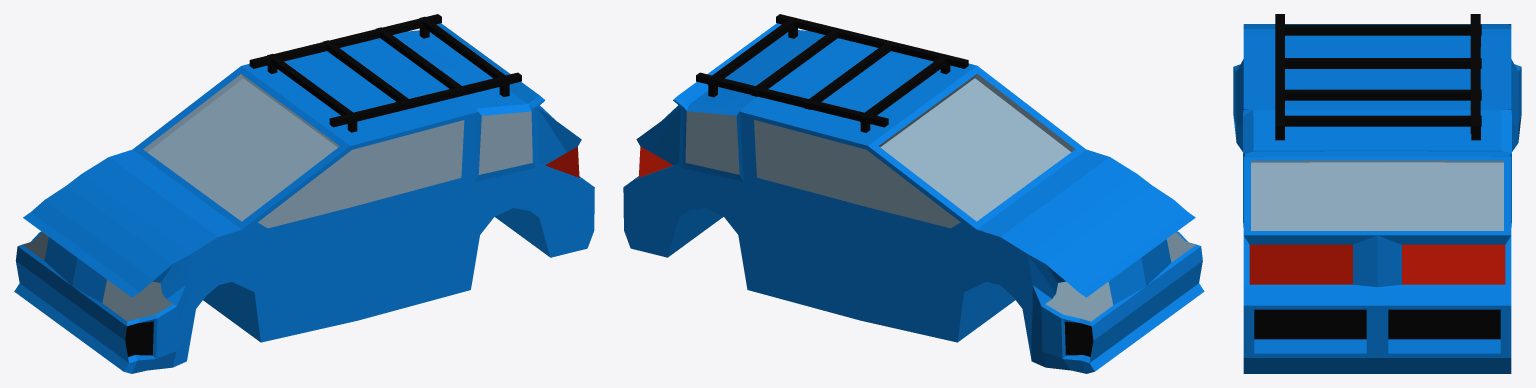
File: Hatchback.fbx
3 renders of one model, left to right at view 1: azimuth 30°, elevation 25°; view 2: azimuth 150°, elevation 25°; view 3: azimuth 270°, elevation 25°, orthographic. The views are drawn at different scales.
Visible parts, largest first — view 1: polySurface12; view 2: polySurface12; view 3: polySurface12.
Part boxes in pixels (x1,y1,x2,y2): polySurface12: (14, 14, 594, 373); polySurface12: (623, 14, 1204, 373); polySurface12: (1233, 14, 1521, 373).
Size of the model in its own units: 18.29 by 7.14 by 7.91.
